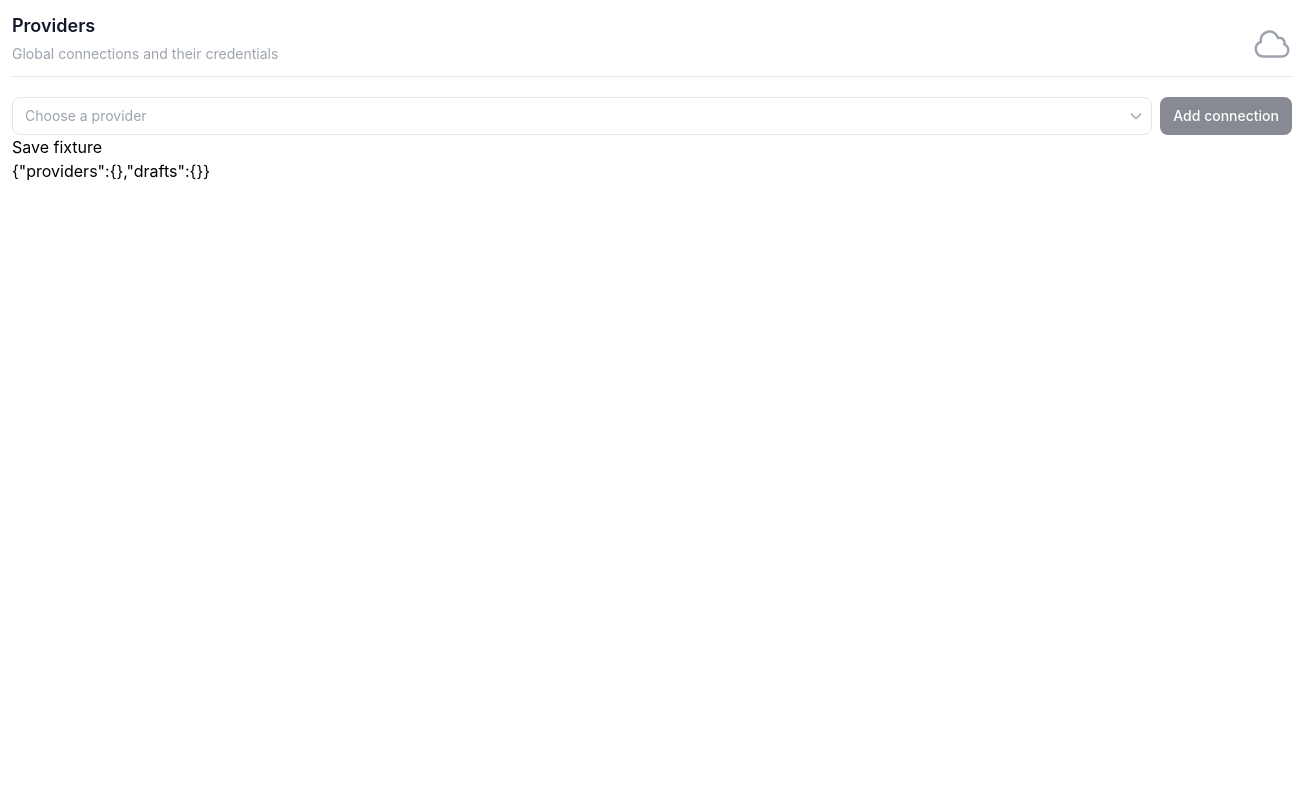
Test case: metadata-driven provider connections › debounces automatic validation and shows progress beside the provider name
Type "Unseen" into the dropdown named "Provider brand" at (582, 116), box [12, 97, 1152, 135]
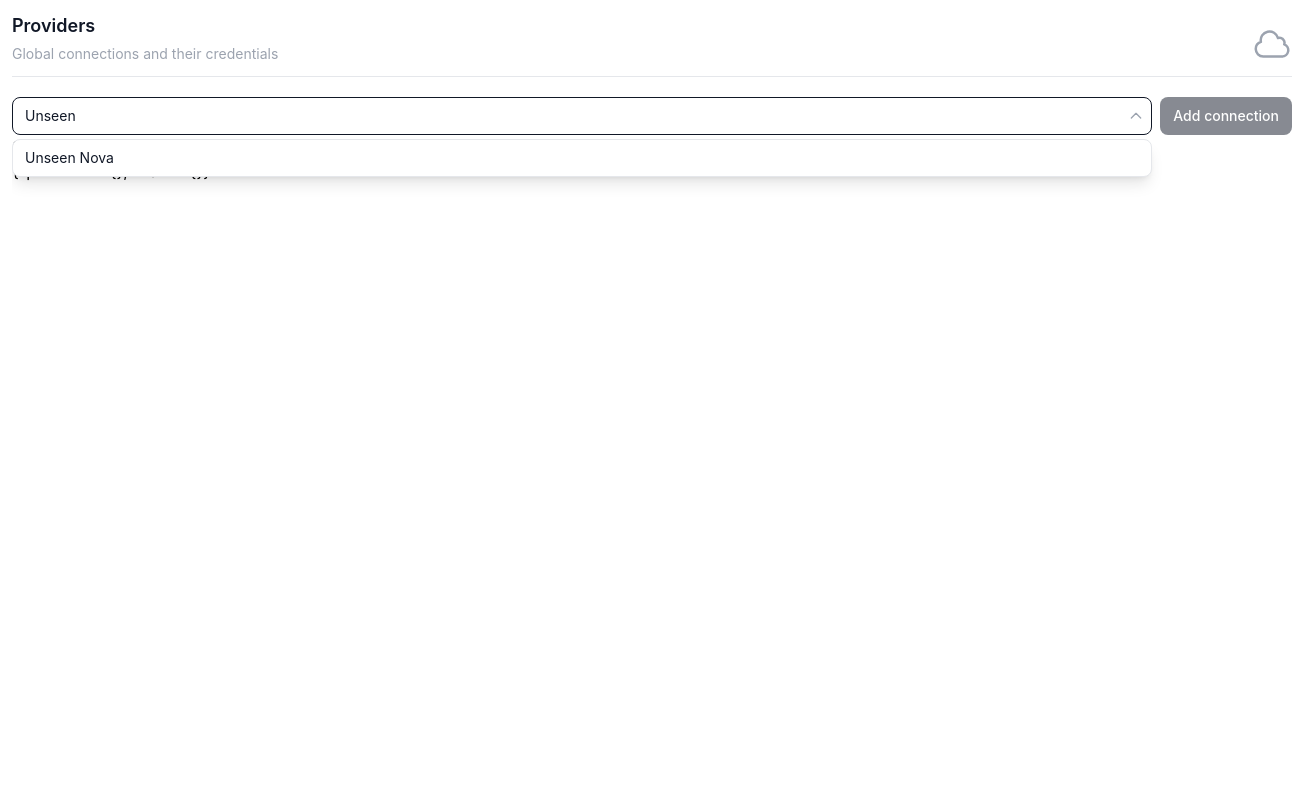
Expected: the button "Add connection" is disabled, [1160, 97, 1292, 135]
Click the option "Unseen Nova" at (70, 158), box [25, 149, 114, 166]
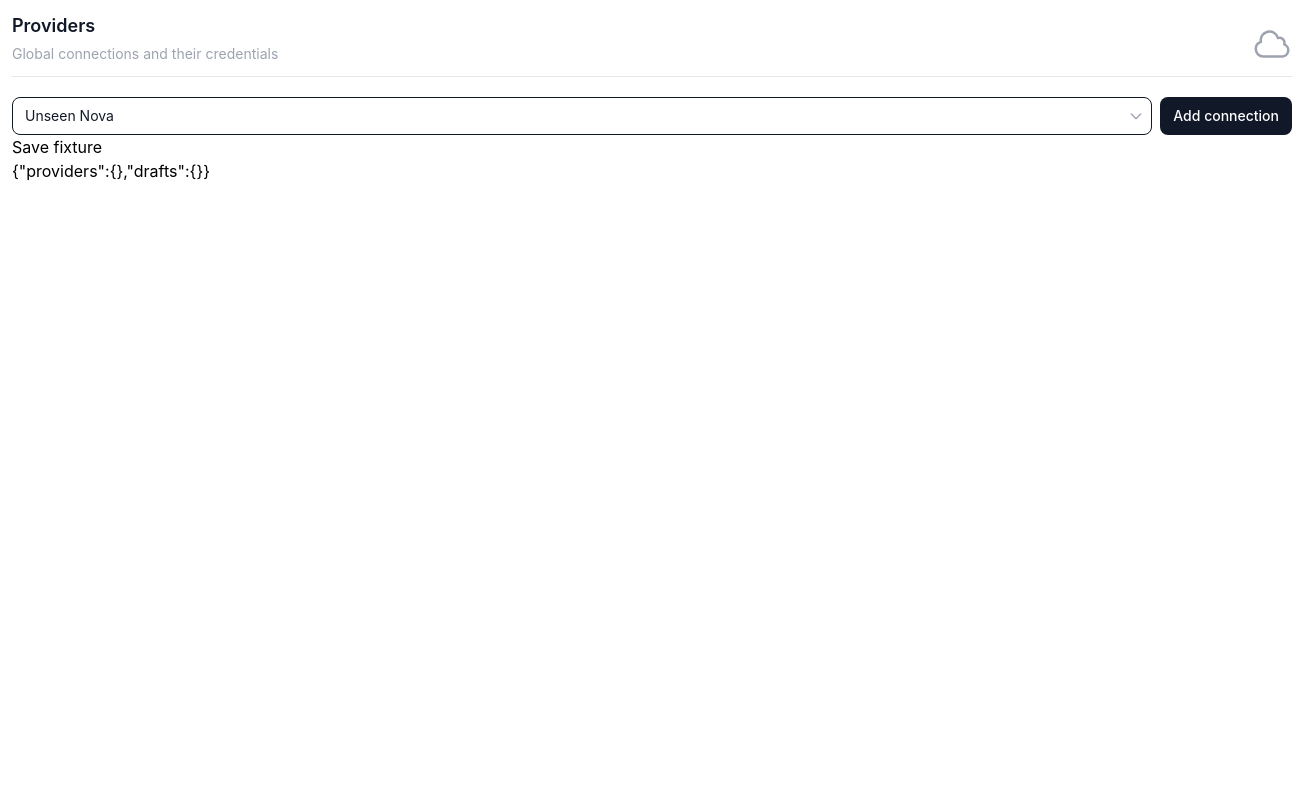
Click the button "Add connection" at (1226, 116), box [1160, 97, 1292, 135]
Wait 1000 ms
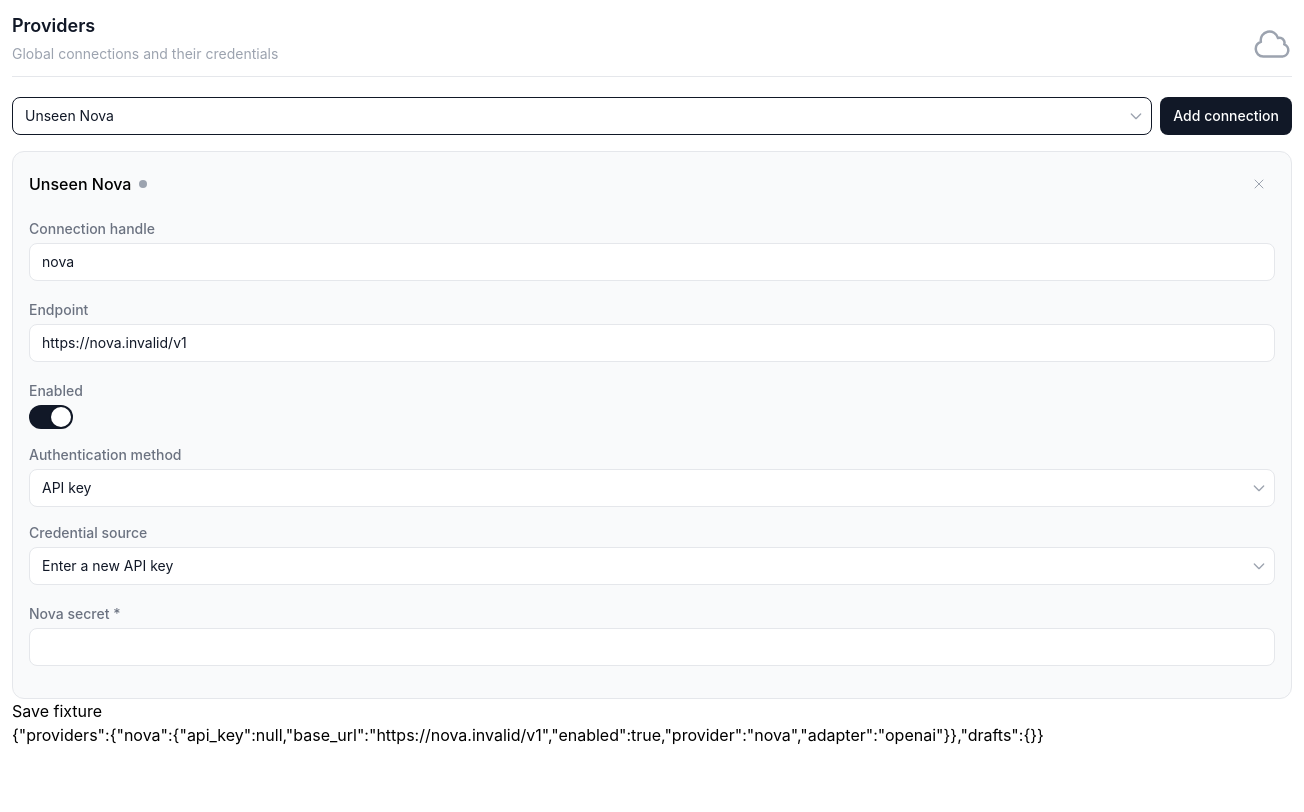
Type "unfinished" into the password field labelled "Nova secret *" at (652, 647), box [29, 628, 1275, 666]
Wait 700 ms
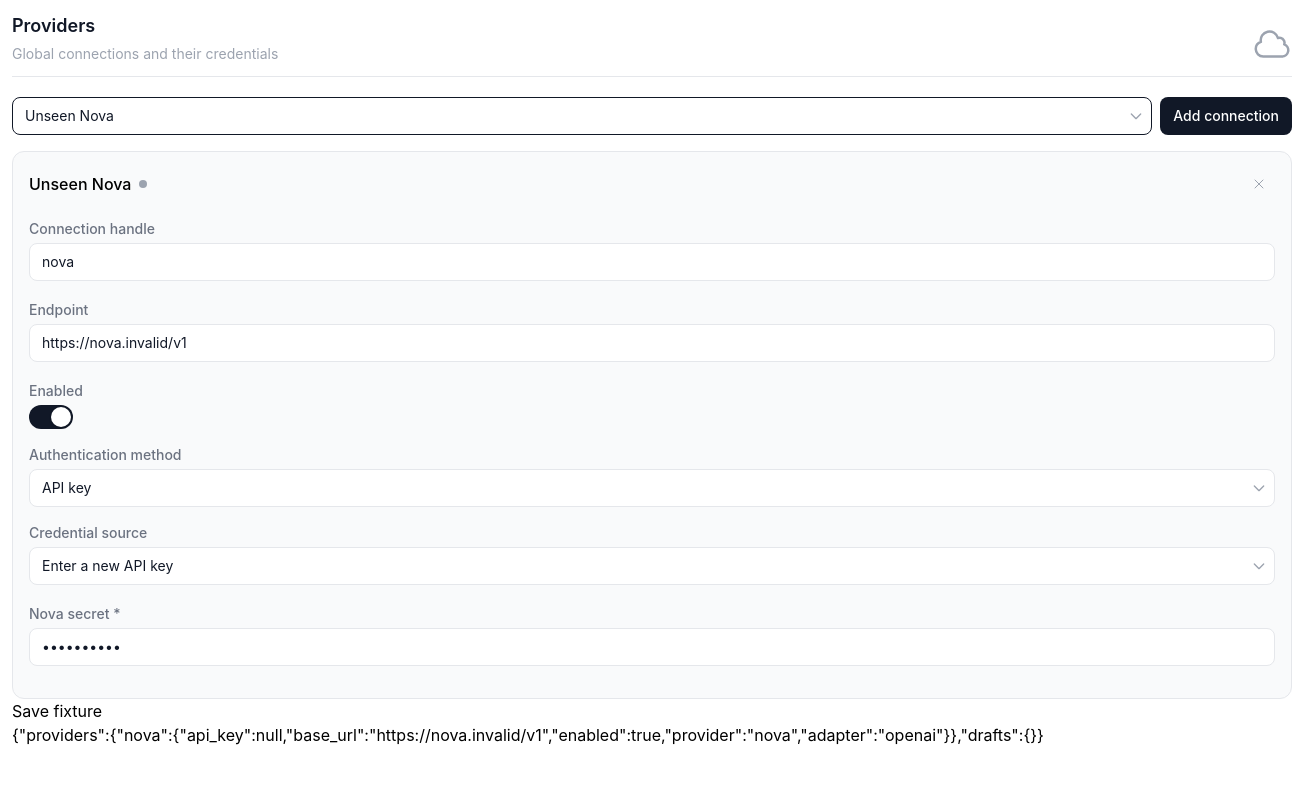
Type "complete-key" into the password field labelled "Nova secret *" at (652, 647), box [29, 628, 1275, 666]
Wait 2800 ms
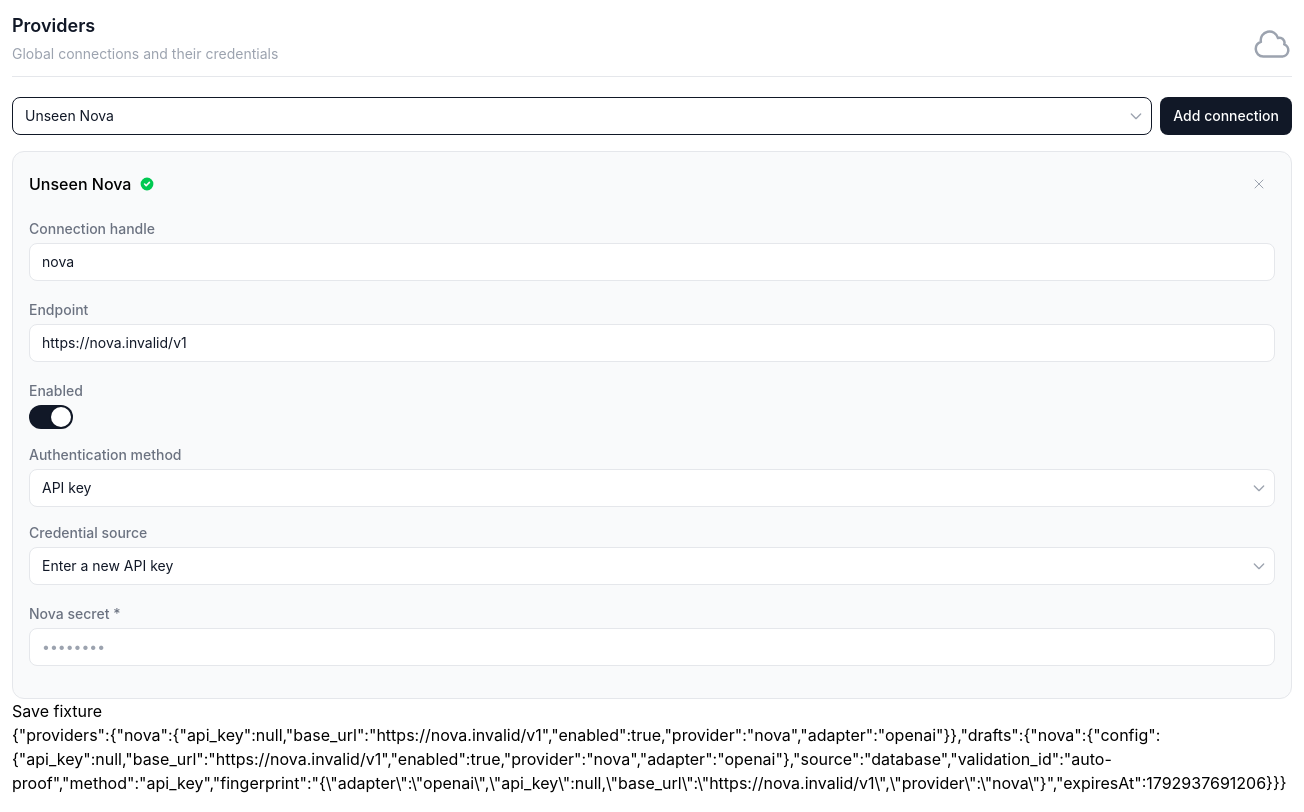
Expected: the picture named "Connection validated" is shown, [139, 176, 155, 192]
